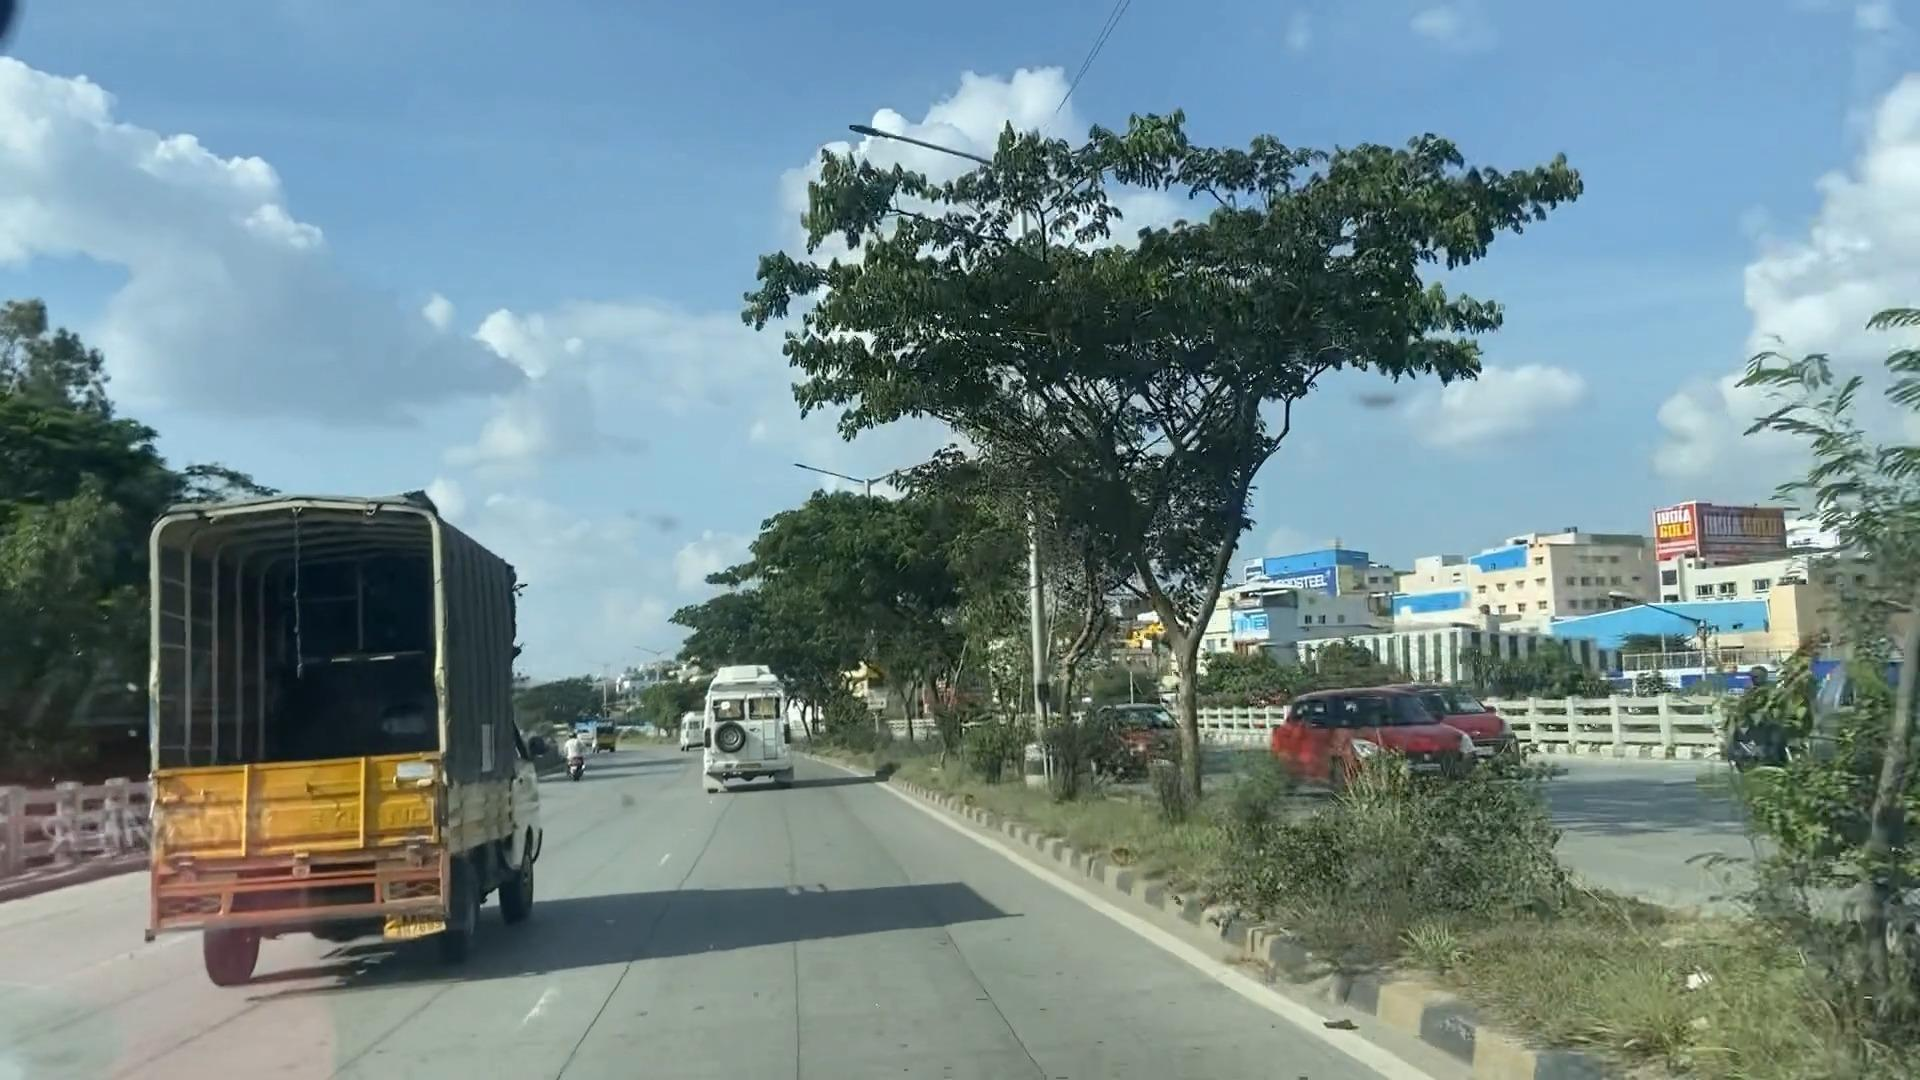HMV: (136, 487, 558, 998), (696, 657, 815, 808)
